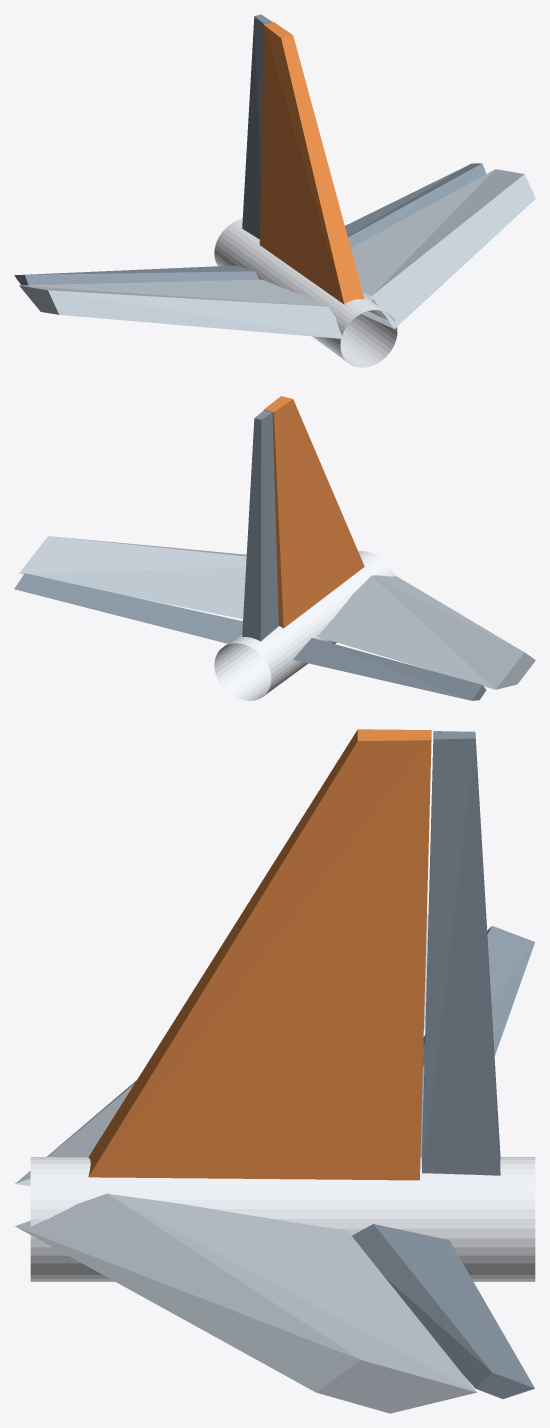
Rendered from vertical-stabilizer.glb.
3 renders of one model, top to bottom at view 1: azimuth 30°, elevation 25°; view 2: azimuth 150°, elevation 25°; view 3: azimuth 270°, elevation 25°, orthographic. The views are drawn at different scales.
Size of the model in its own units: 5.52 by 2.99 by 2.61.
